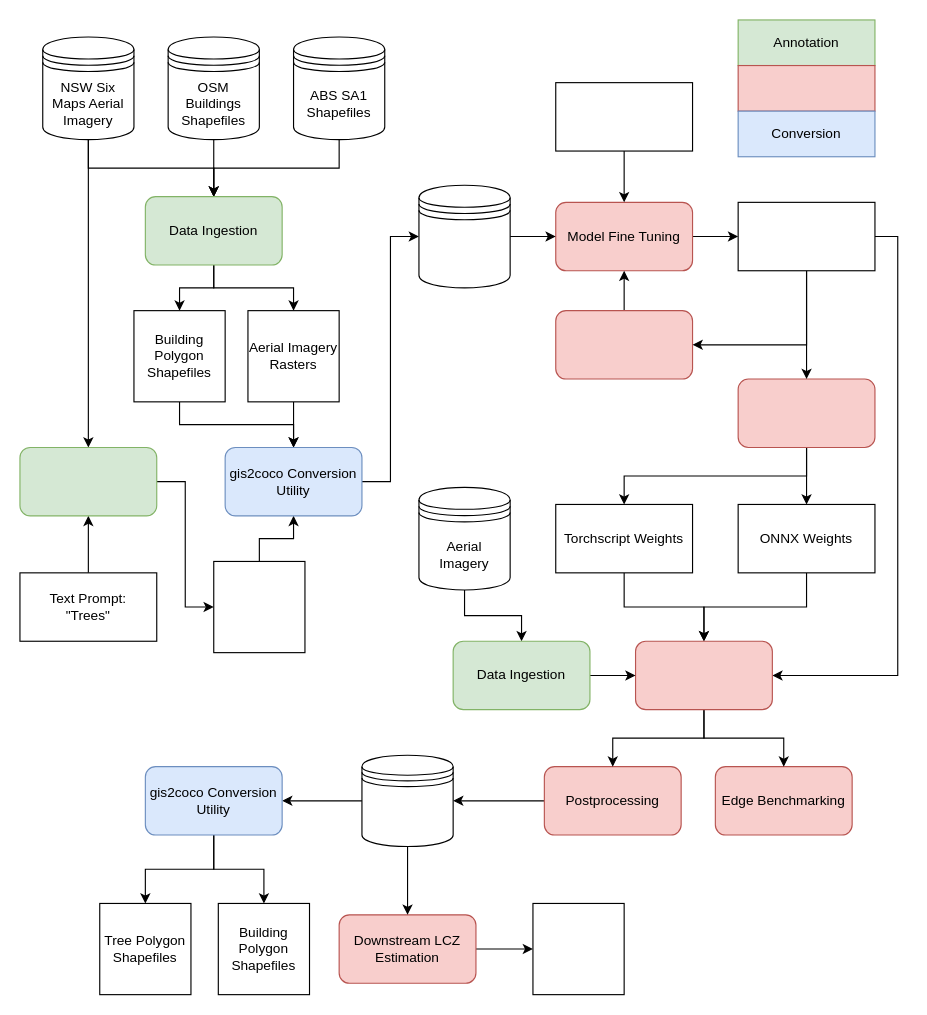
The diagram is 927 pixels wide and 1015 high, and some of its shapes have lost their labels. The shapes that lost their labels are listed below. From the top down, each one's centre as x and y in pixels, then its label:
At (806,87): "Segmenation".
At (624,116): "Pre-trained MaskRCNN Weights".
At (464,236): "Building & Trees COCO Dataset".
At (806,236): "Pytorch Weights".
At (624,344): "Model Evaluation".
At (806,412): "Model Export".
At (88,481): "Grounded SAMGeo".
At (259,606): "Tree Polygon Annotations".
At (703,675): "Model Prediction".
At (407,800): "Building & Tree Predictions".
At (578,948): "LCZ Map".
